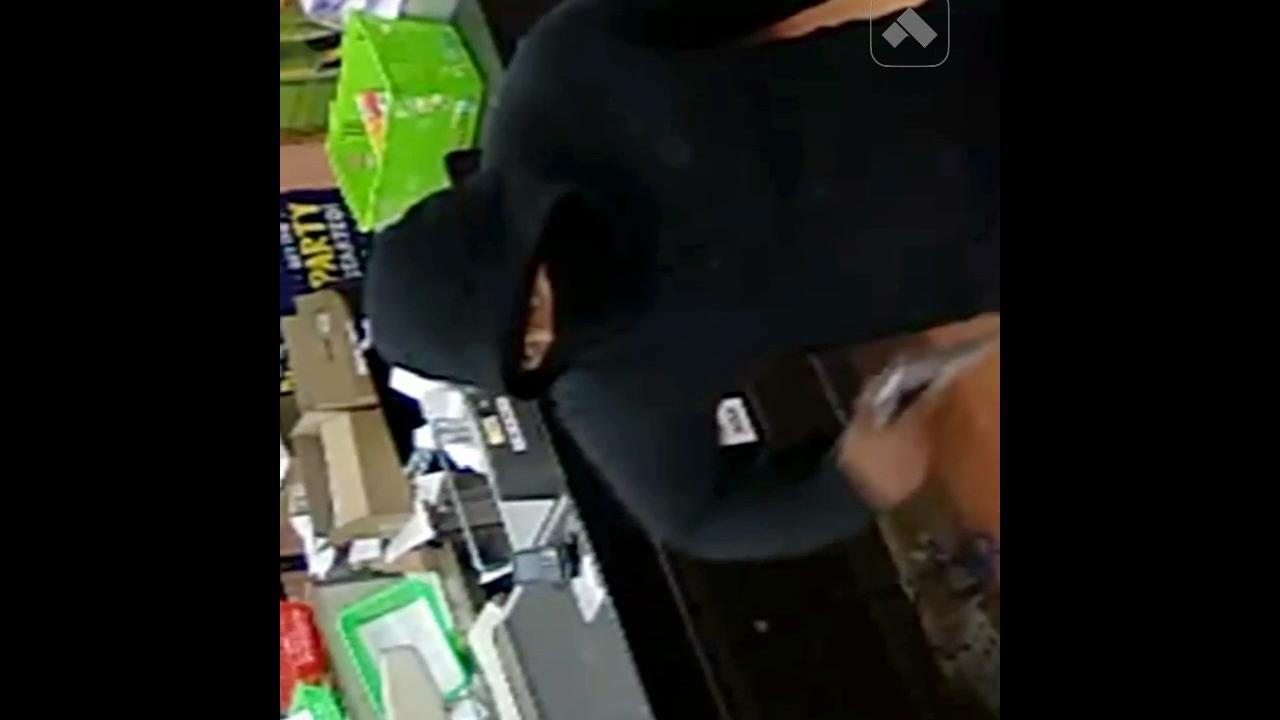gun: (850, 317, 995, 429)
